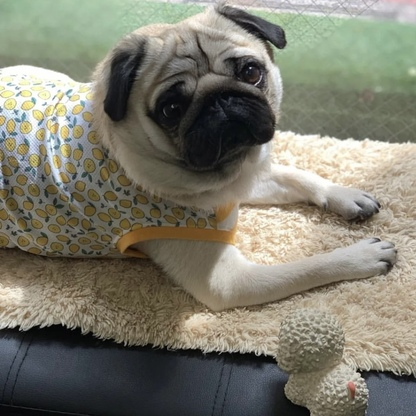Pug: (1, 1, 402, 318)
